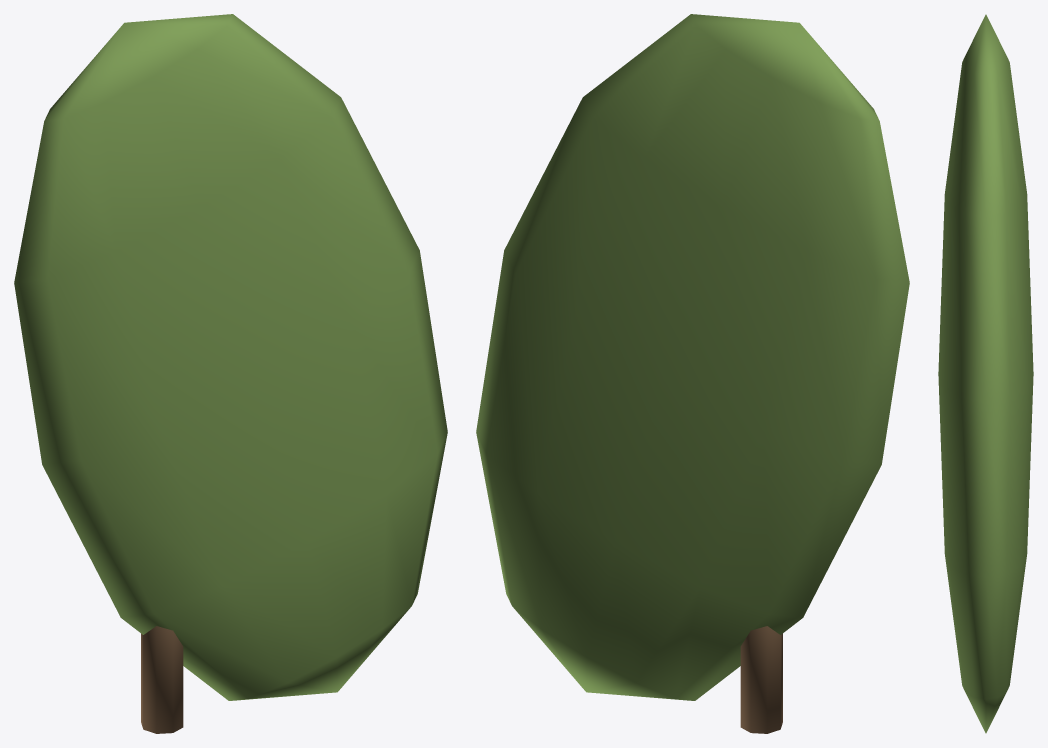
The model's file is leaf.glb.
3 renders of one model, left to right at view 1: azimuth 30°, elevation 25°; view 2: azimuth 150°, elevation 25°; view 3: azimuth 270°, elevation 25°, orthographic. The views are drawn at different scales.
Parts seen in each view (by area): view 1: body; view 2: body; view 3: body.
Part boxes in pixels (x1,y1,x2,y2): body: (14, 14, 447, 733); body: (476, 14, 909, 733); body: (938, 14, 1033, 733).
Size of the model in its own units: 0.5047 by 0.8025 by 0.11.
